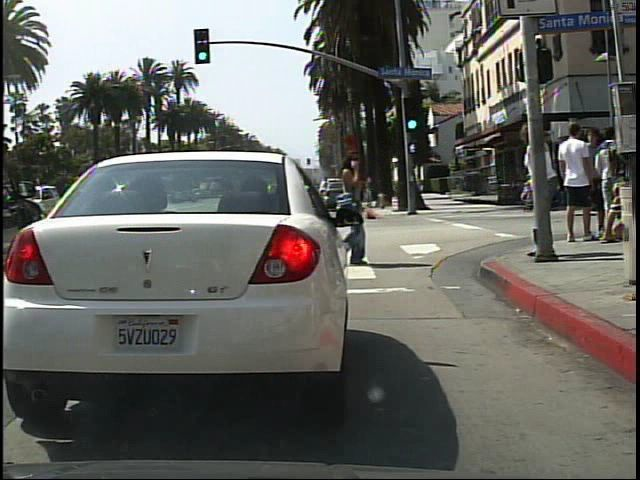person: (526, 123, 569, 264), (338, 145, 372, 268)
